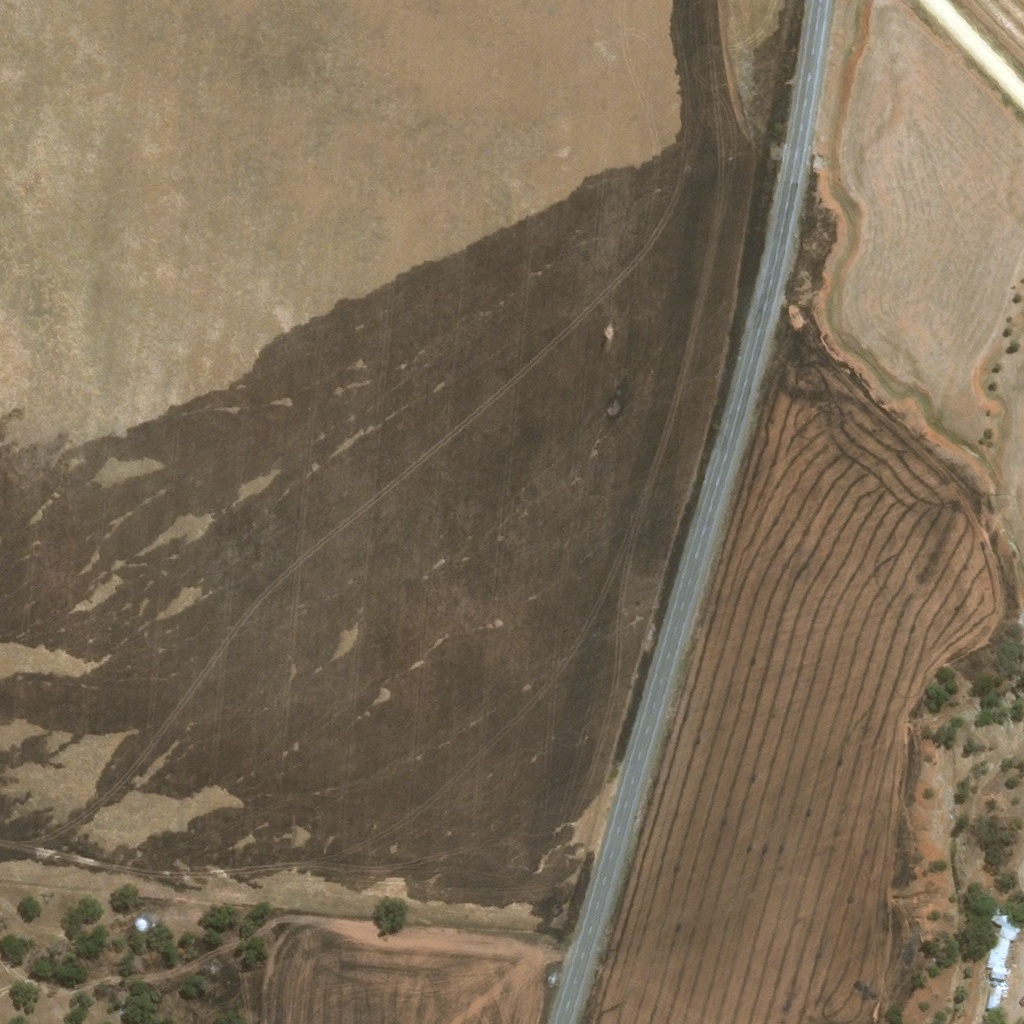0 no-damage: (986, 906, 1023, 980), (986, 984, 1001, 1009), (992, 980, 998, 984)
